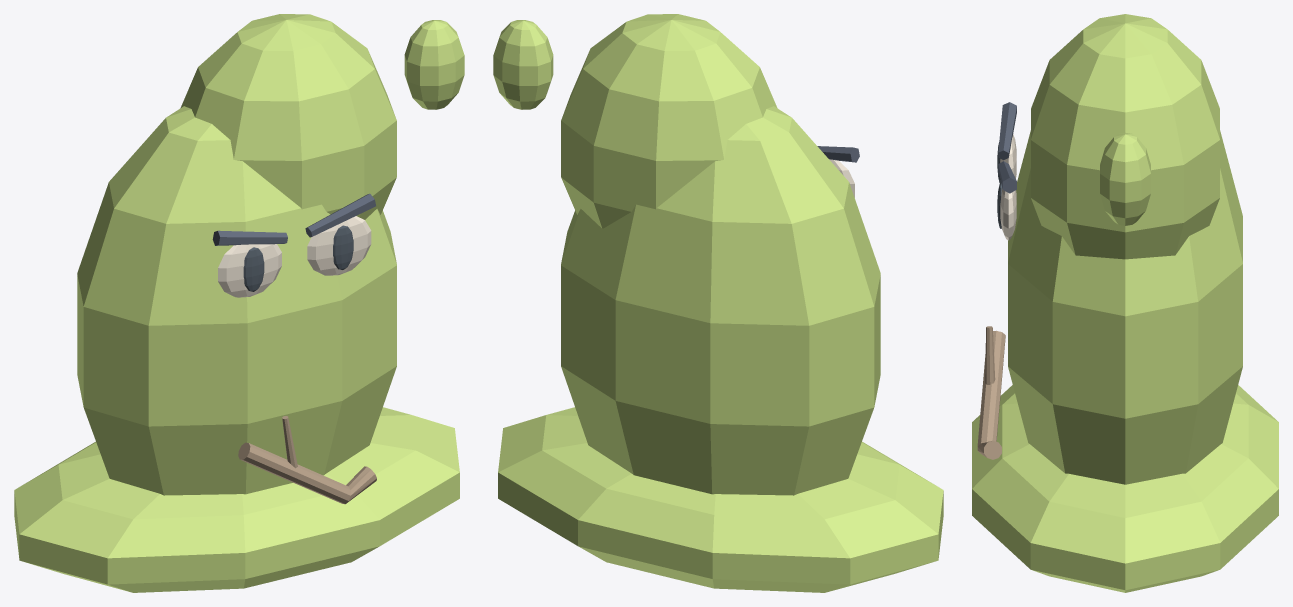
The model's file is slime.glb.
The picture shows the model from 3 angles, left to right: view 1: azimuth 30°, elevation 25°; view 2: azimuth 150°, elevation 25°; view 3: azimuth 270°, elevation 25°; orthographic projection.
Visible parts, largest first — view 1: slime_body, slime_base, slime_peak, floating_drop, twig, eye_-1, eye_1, brow_-1, brow_1, pupil_-1, pupil_1; view 2: slime_body, slime_base, slime_peak, floating_drop; view 3: slime_body, slime_base, slime_peak, floating_drop, twig, brow_-1, eye_1, twig_branch, brow_1.
Part boxes in pixels (x1,y1,x2,y2): slime_body: [77, 106, 396, 495]; slime_base: [14, 407, 459, 592]; slime_peak: [180, 14, 396, 219]; floating_drop: [404, 20, 464, 109]; twig: [238, 442, 376, 504]; eye_-1: [218, 244, 281, 297]; eye_1: [307, 216, 371, 275]; brow_-1: [212, 230, 287, 245]; brow_1: [305, 193, 375, 237]; pupil_-1: [243, 247, 264, 291]; pupil_1: [333, 225, 353, 269]; slime_body: [561, 106, 880, 495]; slime_base: [498, 407, 943, 592]; slime_peak: [561, 14, 777, 228]; floating_drop: [493, 20, 553, 109]; slime_body: [1008, 130, 1242, 484]; slime_base: [972, 385, 1278, 592]; slime_peak: [1031, 14, 1219, 259]; floating_drop: [1100, 132, 1150, 225]; twig: [977, 330, 1005, 459]; brow_-1: [998, 102, 1016, 159]; eye_1: [1000, 188, 1016, 240]; twig_branch: [985, 326, 995, 384]; brow_1: [998, 161, 1016, 193].
Bounding box in the file's own units: 1.15 × 1.3 × 0.6823.
